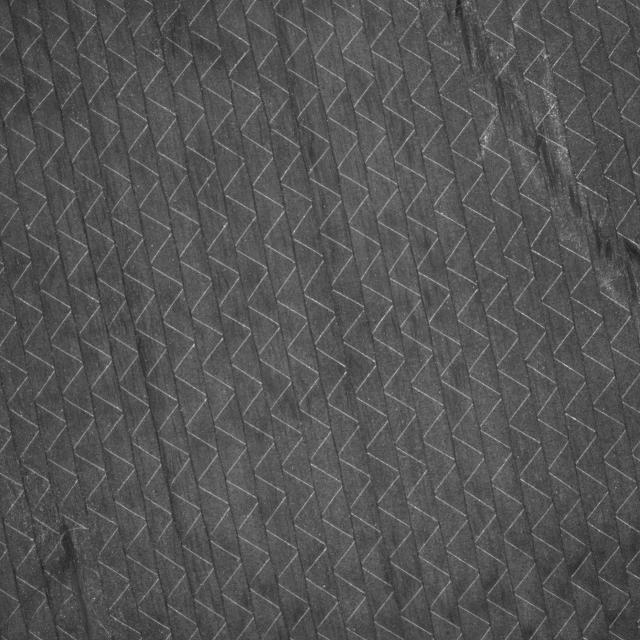carbon-fibre-defect: (442, 0, 640, 329)
